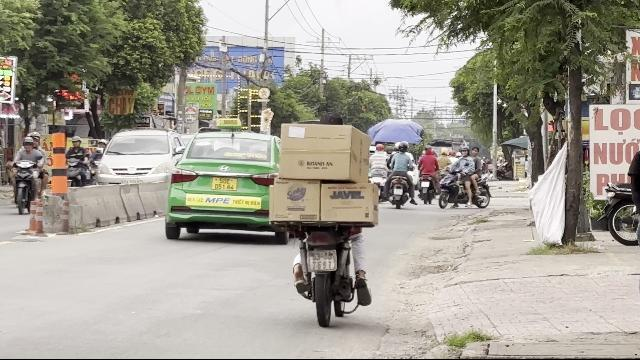licenseplate: (306, 248, 336, 270)
motorcyclist: (266, 101, 384, 327)
nohelmet: (321, 112, 343, 130)
